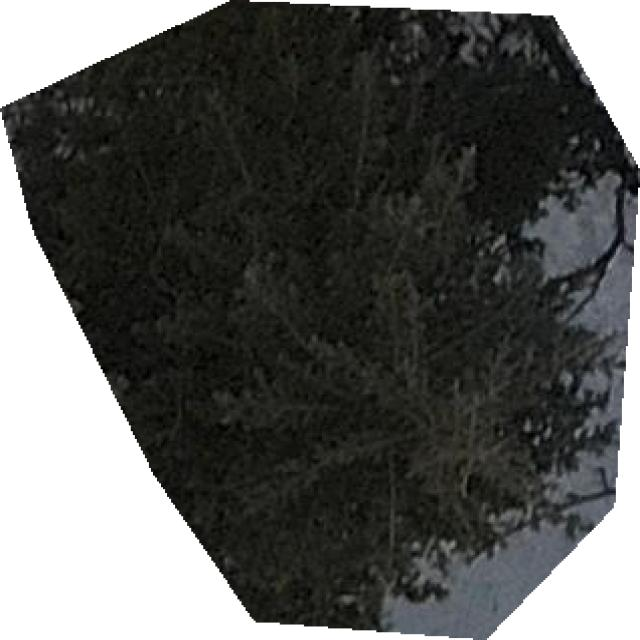spruce: (0, 0, 638, 638)
